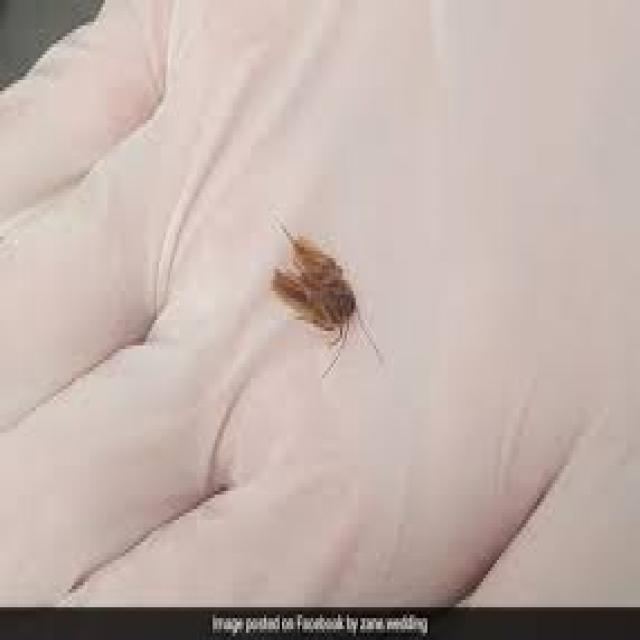Cockroach: (264, 196, 389, 386)
